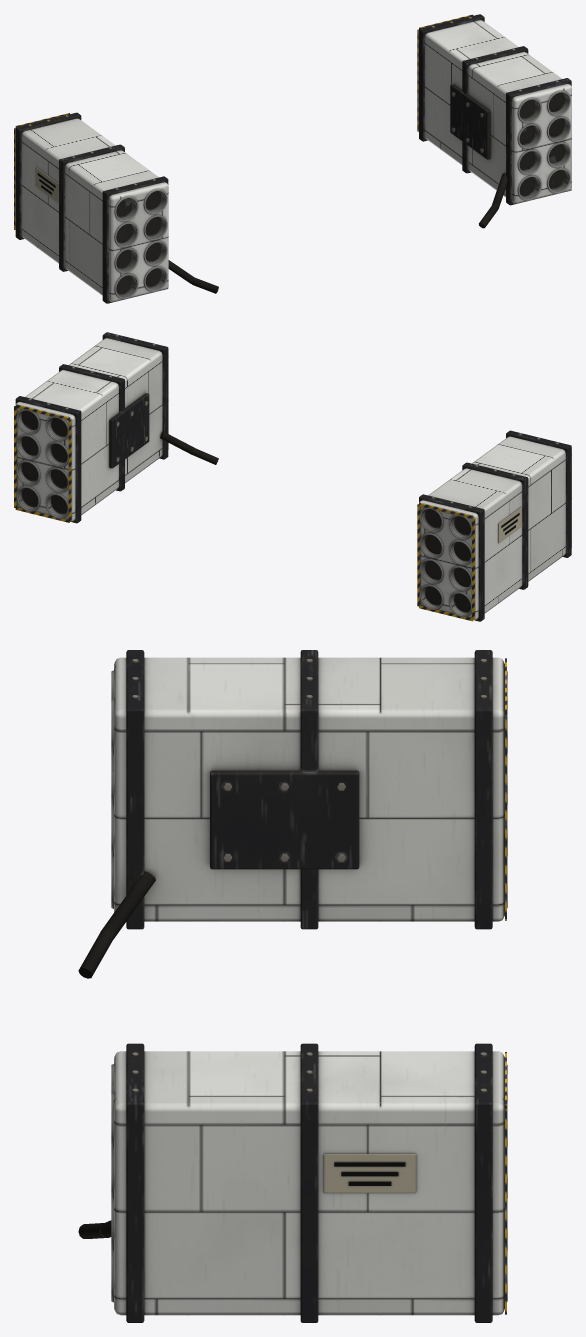
File: mrls.gltf
3 views of the same model, one above another, from view 1: azimuth 30°, elevation 25°; view 2: azimuth 150°, elevation 25°; view 3: azimuth 270°, elevation 25° (orthographic). The views are drawn at different scales.
Visible parts, largest first — view 1: Launchers; view 2: Launchers; view 3: Launchers.
Part boxes in pixels (x1=…): Launchers: x1=14, y1=14, x2=571, y2=303; Launchers: x1=14, y1=332, x2=571, y2=621; Launchers: x1=78, y1=650, x2=507, y2=1322.
Bounding box in the file's own units: 3.02 × 0.727 × 1.21.
Materials: 9 (9 with a texture image).
